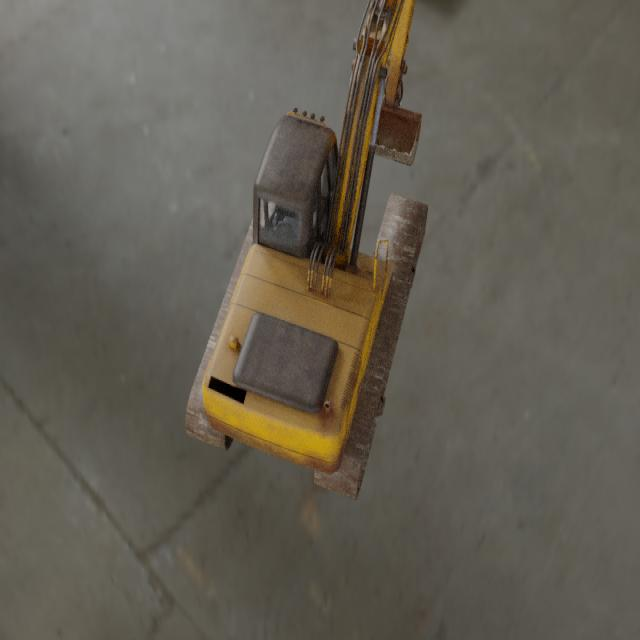excavator: (184, 0, 428, 501)
